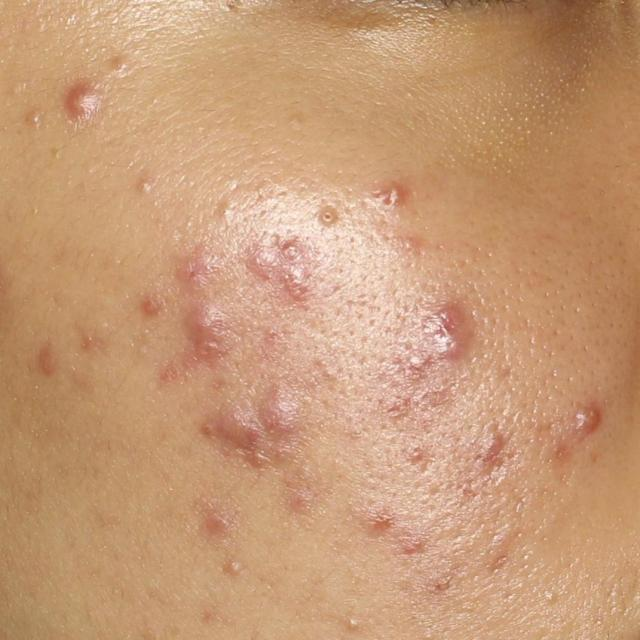blackhead: (325, 214, 330, 219), (222, 209, 226, 215)
nodule: (64, 83, 101, 123), (261, 392, 296, 432), (187, 307, 221, 338), (575, 405, 601, 438), (433, 333, 462, 359), (248, 252, 277, 277), (220, 413, 243, 439), (196, 341, 219, 358)
